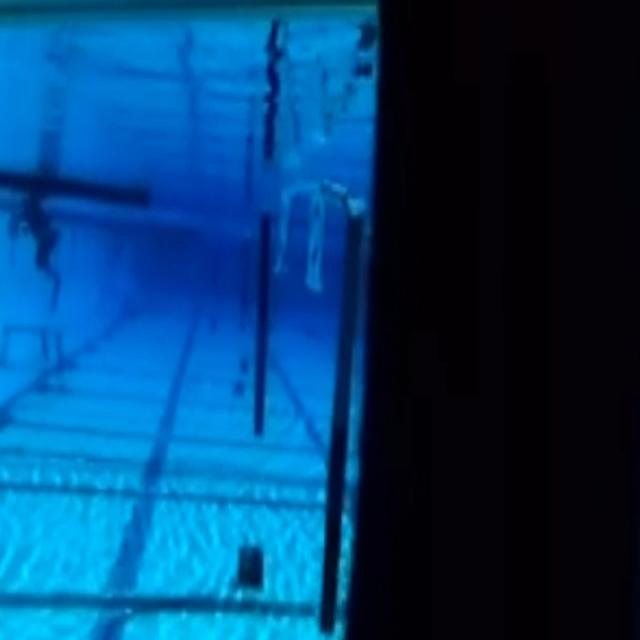Gate: (236, 190, 376, 640)
